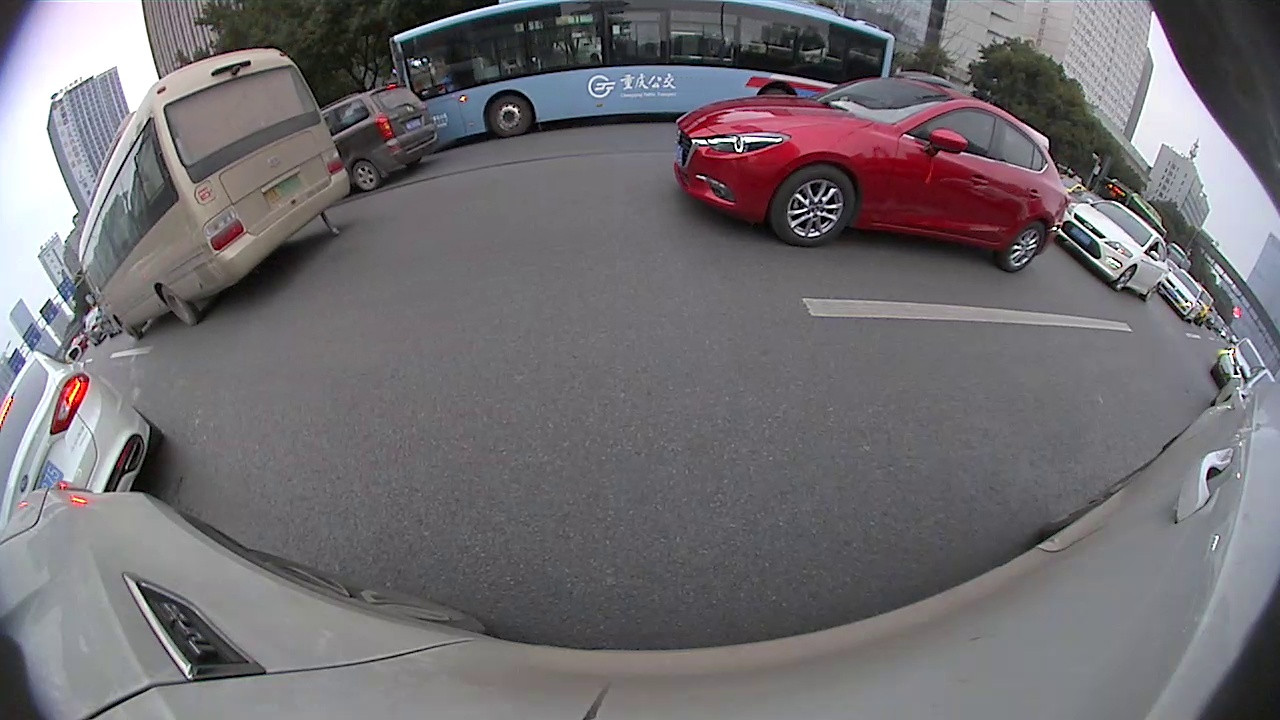bus: (76, 49, 348, 339), (395, 1, 892, 145)
car: (673, 82, 1066, 273), (2, 354, 171, 539), (319, 83, 435, 194), (1057, 202, 1169, 303)
front: (770, 164, 858, 246), (487, 93, 534, 138), (117, 318, 141, 342), (1116, 266, 1137, 292)
rear: (1005, 221, 1048, 272), (160, 282, 200, 328), (350, 160, 382, 194)
